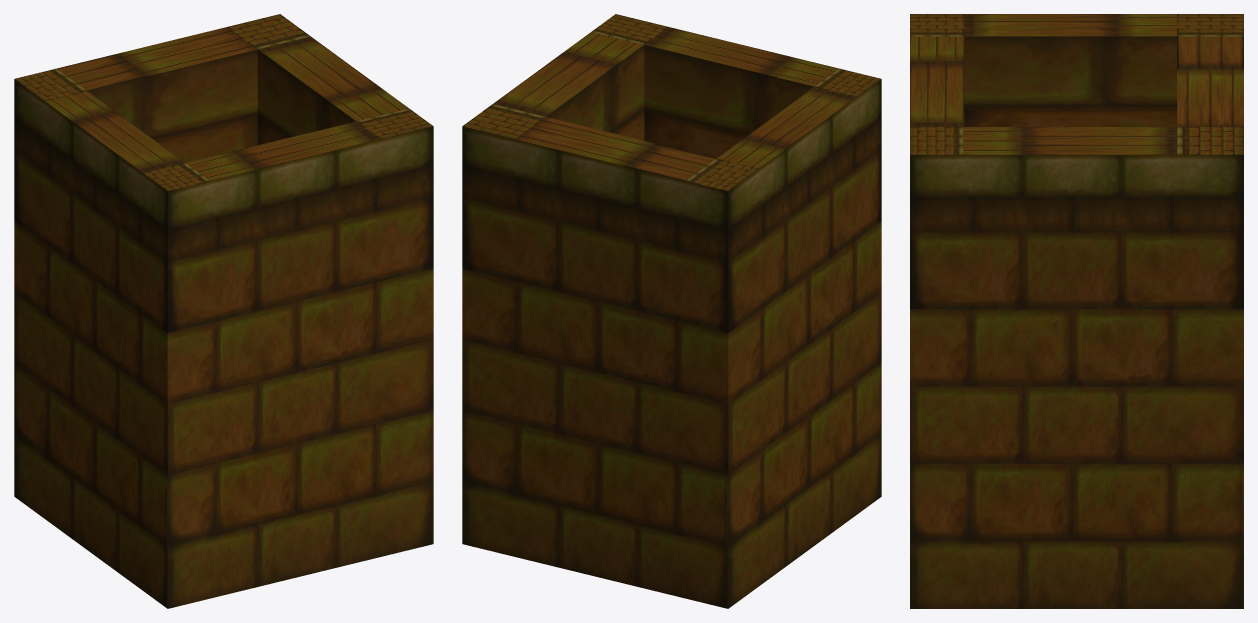
File: murs.obj
3 views of the same model, side by side, from view 1: azimuth 30°, elevation 25°; view 2: azimuth 150°, elevation 25°; view 3: azimuth 270°, elevation 25° (orthographic). The views are drawn at different scales.
Parts seen in each view (by area): view 1: Cube; view 2: Cube; view 3: Cube.
Boxes of the visible parts, <box> form: Cube: <box>14,14,433,608</box>; Cube: <box>462,14,881,608</box>; Cube: <box>910,14,1243,608</box>.
Bounding box in the file's own units: 2 × 3 × 2.
2 materials, 2 textured.
